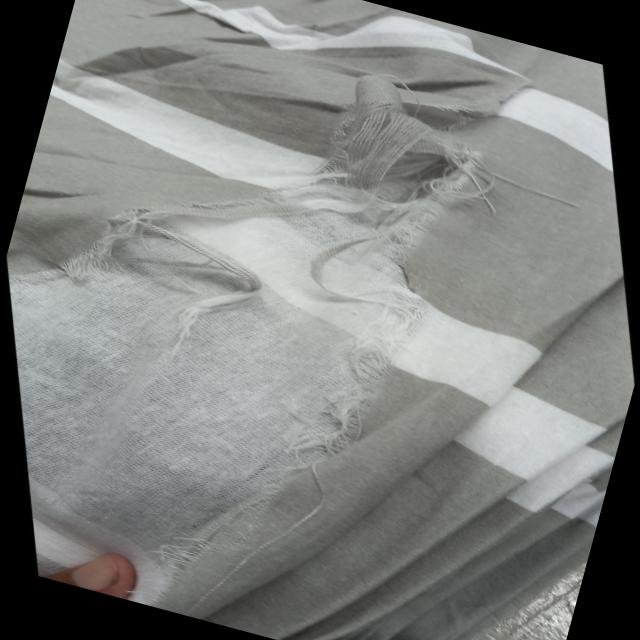cut: (202, 36, 556, 298), (37, 181, 454, 397)
